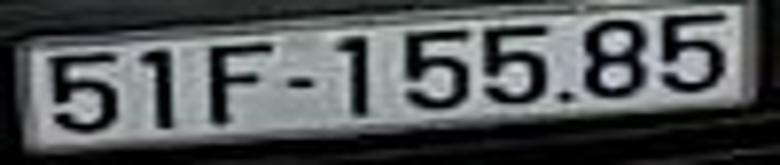-: (284, 76, 314, 89)
.: (561, 91, 572, 102)
1: (142, 50, 174, 131), (337, 37, 368, 114)
5: (52, 53, 116, 132), (405, 32, 467, 110), (664, 14, 724, 93), (485, 25, 545, 103)
8: (586, 22, 642, 99)
F: (211, 44, 271, 122)
